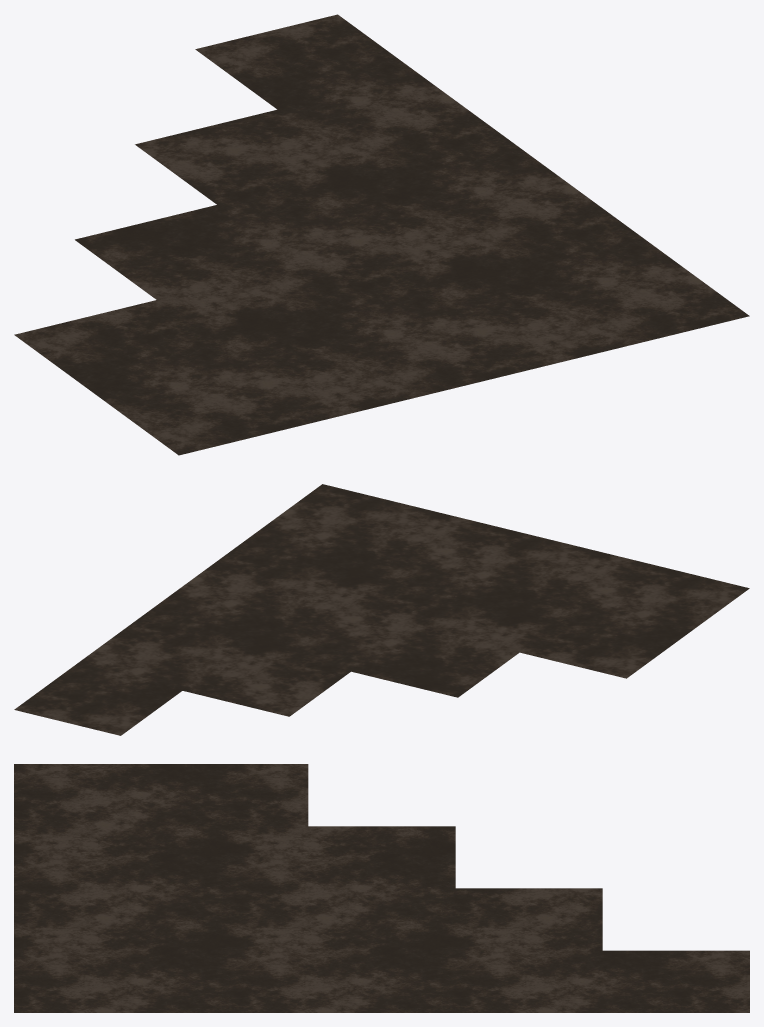
Rendered from floor_-4_-3.glb.
3 views of the same model, one above another, from view 1: azimuth 30°, elevation 25°; view 2: azimuth 150°, elevation 25°; view 3: azimuth 270°, elevation 25° (orthographic). The views are drawn at different scales.
Visible parts, largest first — view 1: floor_-4_-3; view 2: floor_-4_-3; view 3: floor_-4_-3.
Part boxes in pixels (x1,y1,x2,y2): floor_-4_-3: (14,14,749,455); floor_-4_-3: (14,484,749,735); floor_-4_-3: (14,764,749,1012).
Bounding box in the file's own units: 16 × 0 × 20.
Materials: 1 (1 with a texture image).
